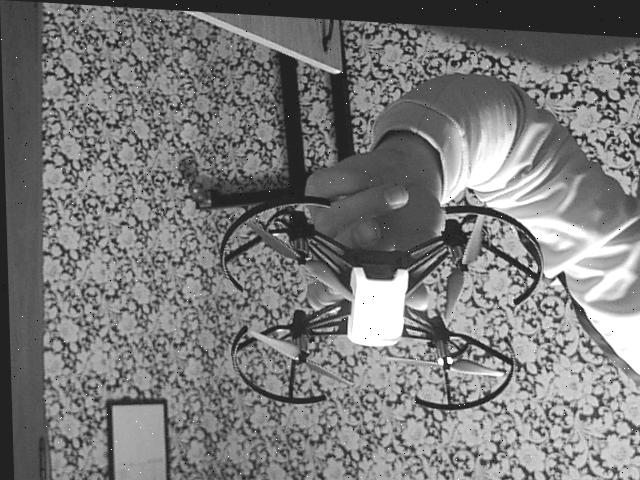drone: (202, 180, 555, 430)
